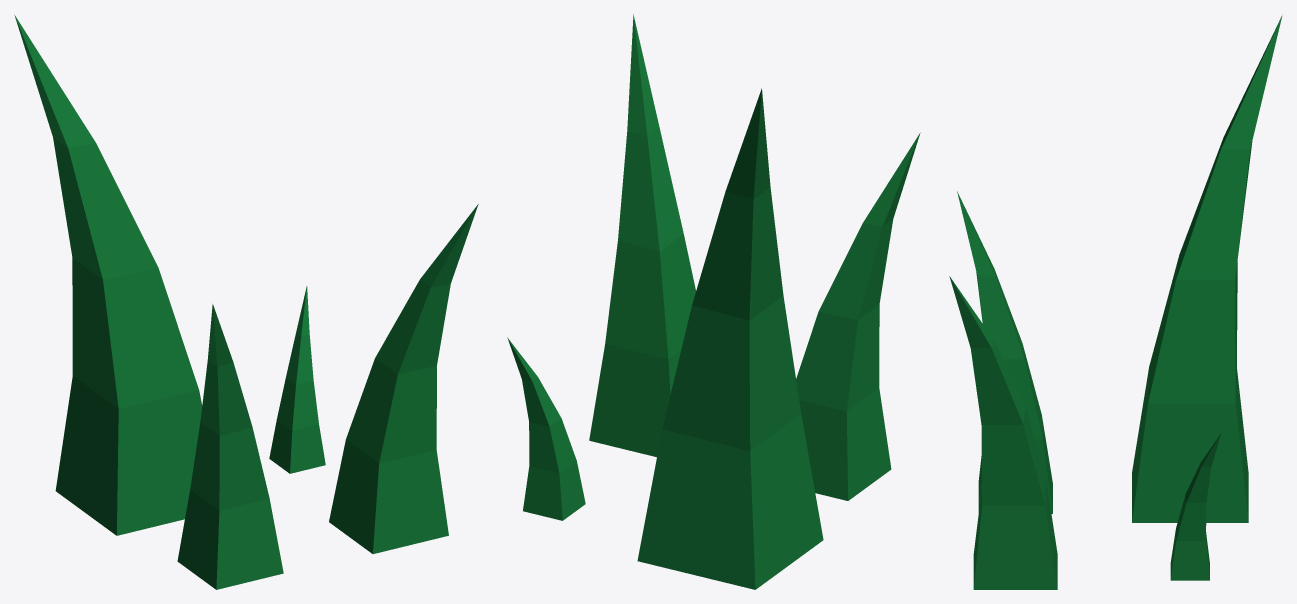
File: grass.fbx
3 renders of one model, left to right at view 1: azimuth 30°, elevation 25°; view 2: azimuth 150°, elevation 25°; view 3: azimuth 270°, elevation 25°, orthographic. The views are drawn at different scales.
Visible parts, largest first — view 1: Tree.054; view 2: Tree.054; view 3: Tree.054.
Boxes of the visible parts, left/top/right/bottom form: Tree.054: left=14, top=15, right=478, bottom=589; Tree.054: left=507, top=14, right=920, bottom=589; Tree.054: left=949, top=15, right=1282, bottom=589.
Size of the model in its own units: 89.43 by 138 by 93.27.
